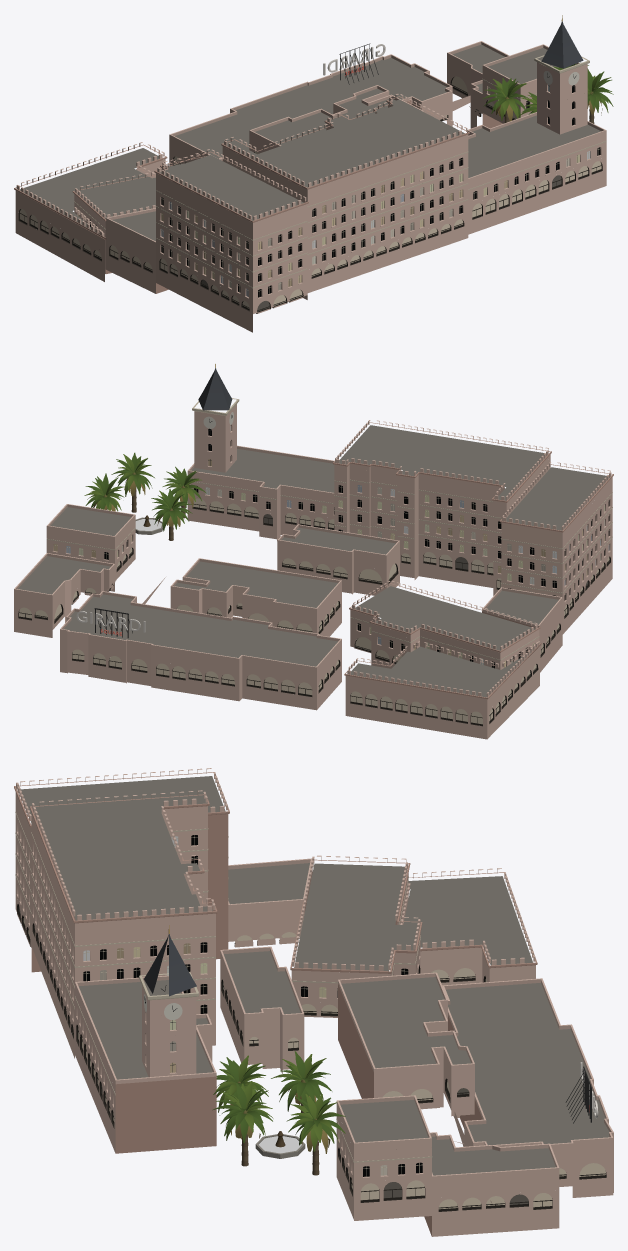
File: ghirardelli_lod0.glb
3 renders of one model, top to bottom at view 1: azimuth 30°, elevation 25°; view 2: azimuth 150°, elevation 25°; view 3: azimuth 270°, elevation 25°, orthographic. The views are drawn at different scales.
Parts seen in each view (by area): view 1: L0_brickred, L0_roof, L0_metal, L0_win, L0_shop, L0_leaf, L0_neon; view 2: L0_brickred, L0_roof, L0_shop, L0_metal, L0_win, L0_leaf; view 3: L0_brickred, L0_roof, L0_leaf, L0_metal, L0_shop, L0_win.
Boxes of the visible parts, box(x1,y1,x2,y2) form: L0_brickred: box(14, 41, 606, 332); L0_roof: box(19, 44, 600, 241); L0_metal: box(18, 21, 602, 313); L0_win: box(78, 84, 600, 297); L0_shop: box(20, 76, 601, 311); L0_leaf: box(483, 62, 613, 121); L0_neon: box(323, 44, 385, 75); L0_brickred: box(14, 404, 613, 739); L0_roof: box(18, 425, 609, 697); L0_shop: box(19, 498, 609, 724); L0_metal: box(18, 368, 610, 726); L0_win: box(53, 426, 609, 668); L0_leaf: box(84, 452, 206, 531); L0_brickred: box(14, 768, 613, 1236); L0_roof: box(20, 776, 609, 1175); L0_leaf: box(212, 1051, 345, 1153); L0_metal: box(17, 835, 606, 1211); L0_shop: box(19, 906, 606, 1209); L0_win: box(83, 835, 422, 1176).
Size of the model in its own units: 131 by 51.66 by 102.
